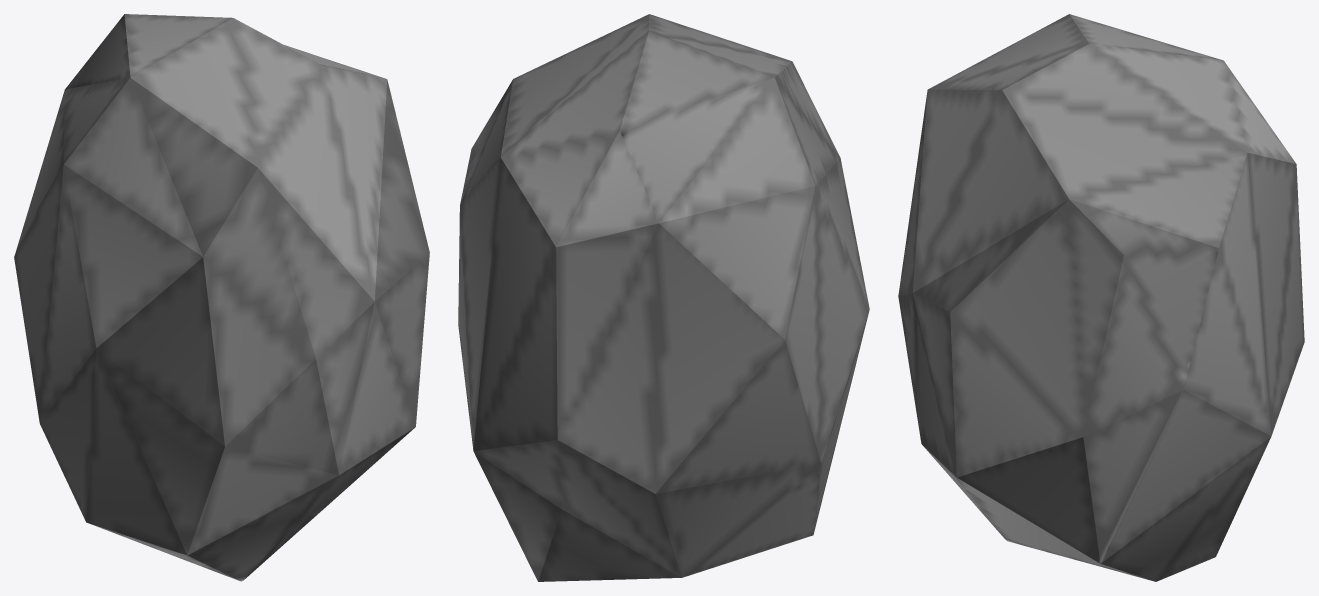
Rendered from Roca01_Textured.FBX.
3 views of the same model, side by side, from view 1: azimuth 30°, elevation 25°; view 2: azimuth 150°, elevation 25°; view 3: azimuth 270°, elevation 25° (orthographic). The views are drawn at different scales.
Visible parts, largest first — view 1: Roca01; view 2: Roca01; view 3: Roca01.
Boxes of the visible parts, bbox=[...] form: Roca01: bbox=[14, 14, 429, 581]; Roca01: bbox=[458, 14, 869, 581]; Roca01: bbox=[898, 14, 1304, 581].
Size of the model in its own units: 430 by 626 by 449.
